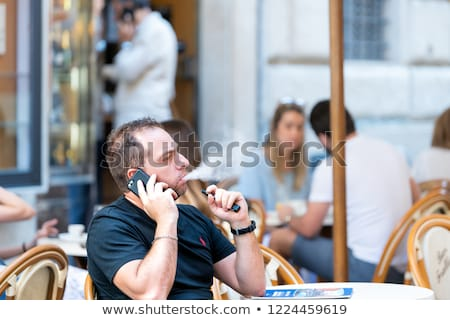phone: (121, 167, 166, 202)
talk: (124, 147, 191, 212)
